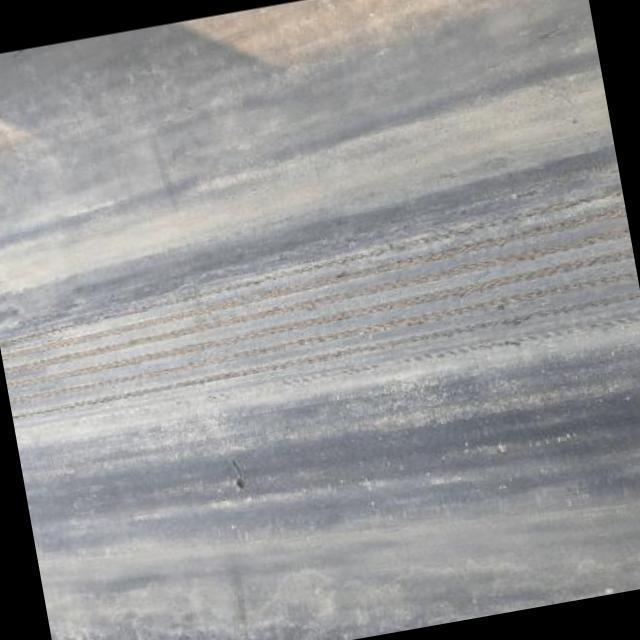Wear: (0, 166, 628, 431)
